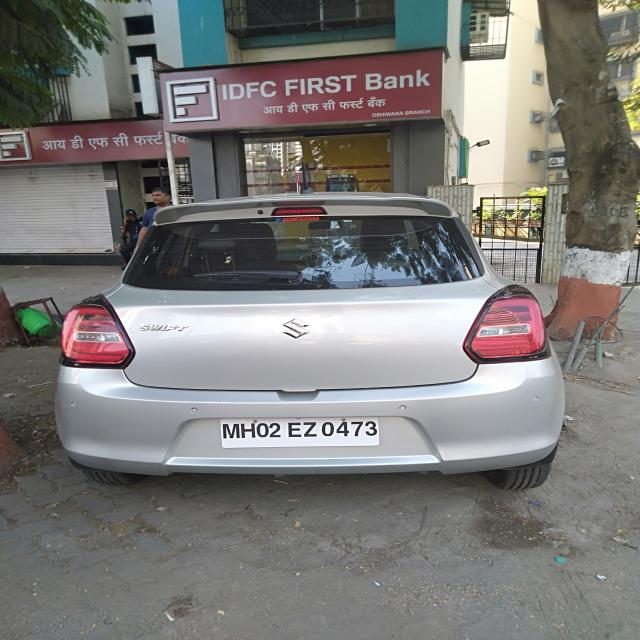Number-Plate: (223, 415, 384, 447)
